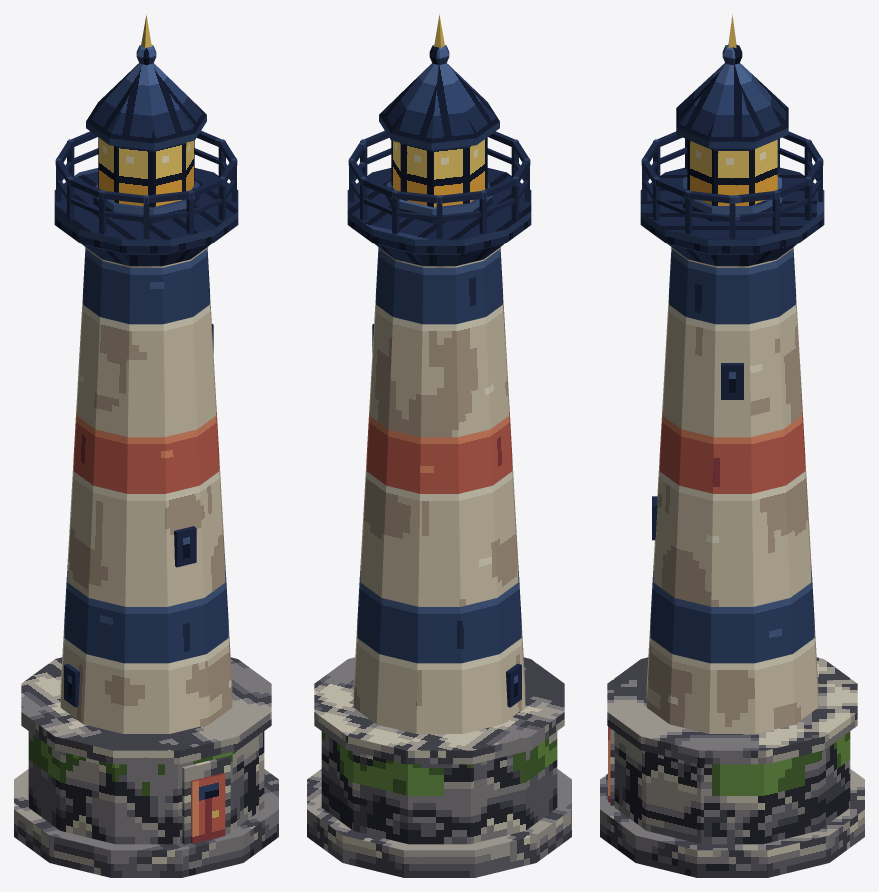
The model's file is lighthouse.glb.
3 views of the same model, side by side, from view 1: azimuth 30°, elevation 25°; view 2: azimuth 150°, elevation 25°; view 3: azimuth 270°, elevation 25° (orthographic).
Parts seen in each view (by area): view 1: lighthouse__tower, lighthouse__base, lighthouse__cornice, lighthouse__plinth, lighthouse__gallery, lighthouse__cap, lighthouse__lantern, lighthouse__rail_top, lighthouse__door, lighthouse__door_frame, lighthouse__rail_mid, lighthouse__corbel (+4 smaller); view 2: lighthouse__tower, lighthouse__base, lighthouse__cornice, lighthouse__plinth, lighthouse__gallery, lighthouse__cap, lighthouse__lantern, lighthouse__rail_top, lighthouse__rail_mid, lighthouse__corbel, lighthouse__parapet, lighthouse__cap_rim (+1 smaller); view 3: lighthouse__tower, lighthouse__base, lighthouse__cornice, lighthouse__plinth, lighthouse__gallery, lighthouse__cap, lighthouse__lantern, lighthouse__rail_top, lighthouse__rail_mid, lighthouse__corbel, lighthouse__parapet, lighthouse__cap_rim (+1 smaller).
Part boxes in pixels (x1=…): lighthouse__tower: x1=60, y1=247, x2=232, y2=733; lighthouse__base: x1=28, y1=731, x2=264, y2=844; lighthouse__cornice: x1=21, y1=657, x2=271, y2=764; lighthouse__plinth: x1=14, y1=769, x2=278, y2=877; lighthouse__gallery: x1=54, y1=168, x2=238, y2=253; lighthouse__cap: x1=86, y1=63, x2=206, y2=143; lighthouse__lantern: x1=98, y1=137, x2=194, y2=207; lighthouse__rail_top: x1=55, y1=130, x2=237, y2=203; lighthouse__door: x1=191, y1=773, x2=225, y2=843; lighthouse__door_frame: x1=182, y1=756, x2=230, y2=844; lighthouse__rail_mid: x1=57, y1=148, x2=235, y2=220; lighthouse__corbel: x1=81, y1=243, x2=211, y2=266; lighthouse__tower: x1=353, y1=247, x2=525, y2=733; lighthouse__base: x1=321, y1=731, x2=557, y2=844; lighthouse__cornice: x1=314, y1=657, x2=564, y2=764; lighthouse__plinth: x1=307, y1=769, x2=571, y2=877; lighthouse__gallery: x1=347, y1=168, x2=531, y2=253; lighthouse__cap: x1=379, y1=63, x2=499, y2=143; lighthouse__lantern: x1=391, y1=137, x2=487, y2=207; lighthouse__rail_top: x1=348, y1=130, x2=530, y2=203; lighthouse__rail_mid: x1=350, y1=148, x2=528, y2=220; lighthouse__corbel: x1=374, y1=243, x2=504, y2=266; lighthouse__parapet: x1=386, y1=180, x2=492, y2=223; lighthouse__cap_rim: x1=379, y1=115, x2=499, y2=150; lighthouse__tower: x1=646, y1=247, x2=818, y2=733; lighthouse__base: x1=614, y1=731, x2=850, y2=844; lighthouse__cornice: x1=607, y1=657, x2=857, y2=764; lighthouse__plinth: x1=600, y1=769, x2=864, y2=877; lighthouse__gallery: x1=640, y1=167, x2=824, y2=253; lighthouse__cap: x1=676, y1=63, x2=788, y2=141; lighthouse__lantern: x1=687, y1=139, x2=777, y2=205; lighthouse__rail_top: x1=641, y1=131, x2=823, y2=203; lighthouse__rail_mid: x1=643, y1=147, x2=821, y2=220; lighthouse__corbel: x1=667, y1=243, x2=797, y2=266; lighthouse__parapet: x1=683, y1=176, x2=781, y2=221; lighthouse__cap_rim: x1=676, y1=128, x2=788, y2=148.
Size of the model in its own units: 4.16 by 14 by 4.16.
Materials: 12 (12 with a texture image).
